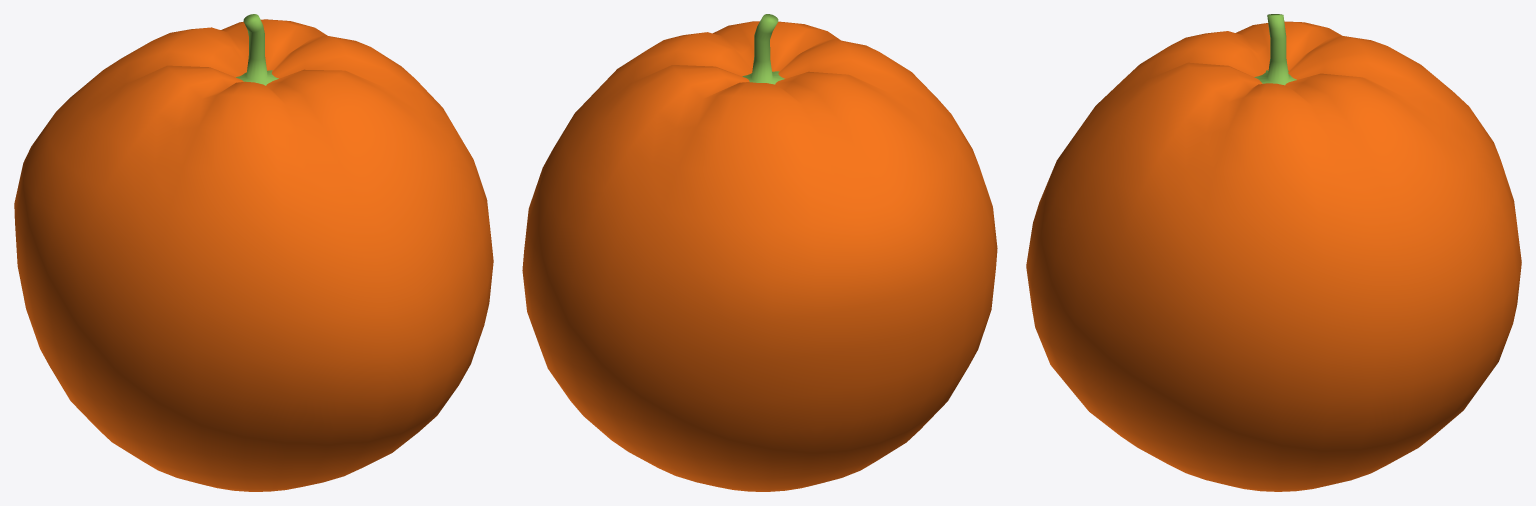
The model's file is laranja.fbx.
3 views of the same model, side by side, from view 1: azimuth 30°, elevation 25°; view 2: azimuth 150°, elevation 25°; view 3: azimuth 270°, elevation 25° (orthographic).
Visible parts, largest first — view 1: Sphere, Cylinder; view 2: Sphere, Cylinder; view 3: Sphere, Cylinder.
Boxes of the visible parts, <box> form: Sphere: <box>14,19,493,491</box>; Cylinder: <box>236,14,278,85</box>; Sphere: <box>522,21,997,491</box>; Cylinder: <box>742,14,784,84</box>; Sphere: <box>1026,21,1521,491</box>; Cylinder: <box>1254,14,1296,85</box>.
Bounding box in the file's own units: 199 × 210 × 208.
